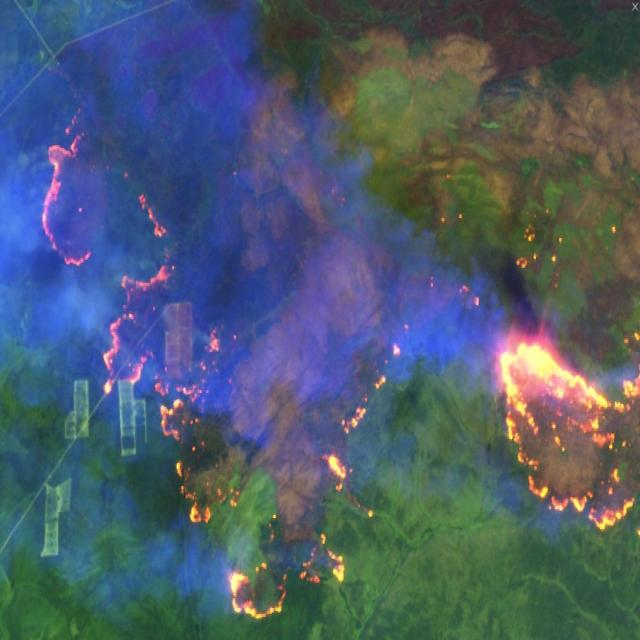fire: (100, 185, 242, 523), (486, 321, 640, 542), (218, 529, 358, 628), (36, 107, 96, 270)
